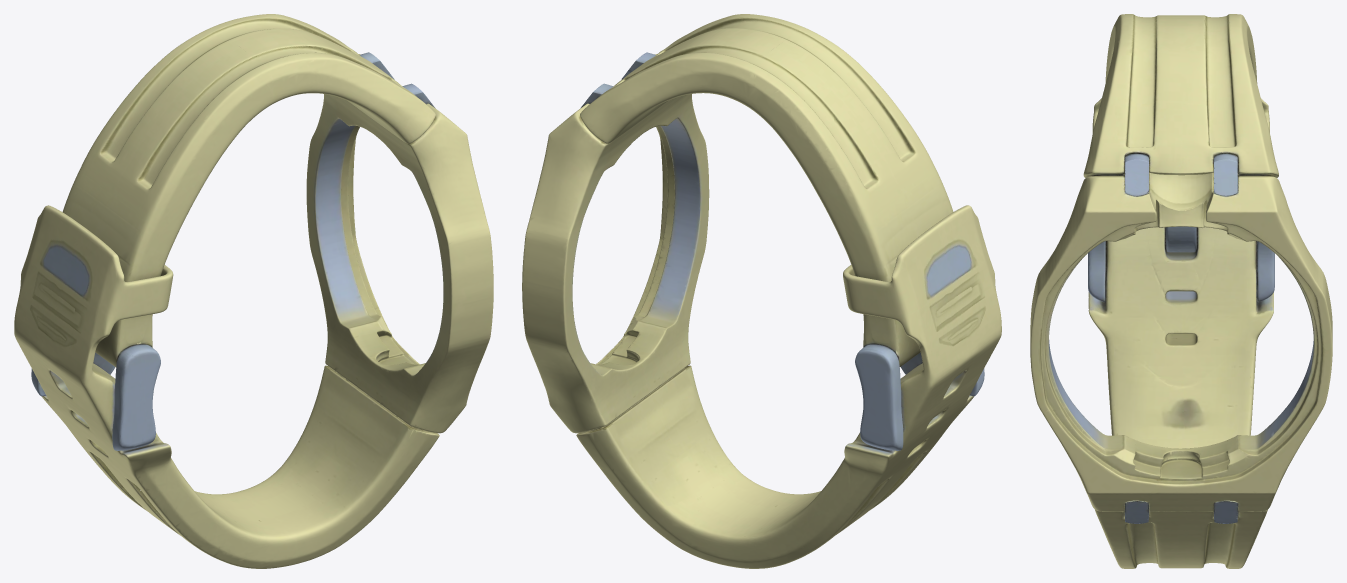
The model's file is yellow-sky.opt.glb.
3 views of the same model, side by side, from view 1: azimuth 30°, elevation 25°; view 2: azimuth 150°, elevation 25°; view 3: azimuth 270°, elevation 25° (orthographic). The views are drawn at different scales.
Visible parts, largest first — view 1: tripo_node_bbed0092-3315-44aa-8167-0ac233dbf967; view 2: tripo_node_bbed0092-3315-44aa-8167-0ac233dbf967; view 3: tripo_node_bbed0092-3315-44aa-8167-0ac233dbf967.
Part boxes in pixels (box(x1,y1,x2,y2)): tripo_node_bbed0092-3315-44aa-8167-0ac233dbf967: box(14, 14, 493, 568); tripo_node_bbed0092-3315-44aa-8167-0ac233dbf967: box(522, 14, 1001, 568); tripo_node_bbed0092-3315-44aa-8167-0ac233dbf967: box(1030, 14, 1332, 568).
Size of the model in its own units: 0.7593 by 0.9799 by 0.5113.
1 material, 1 textured.
